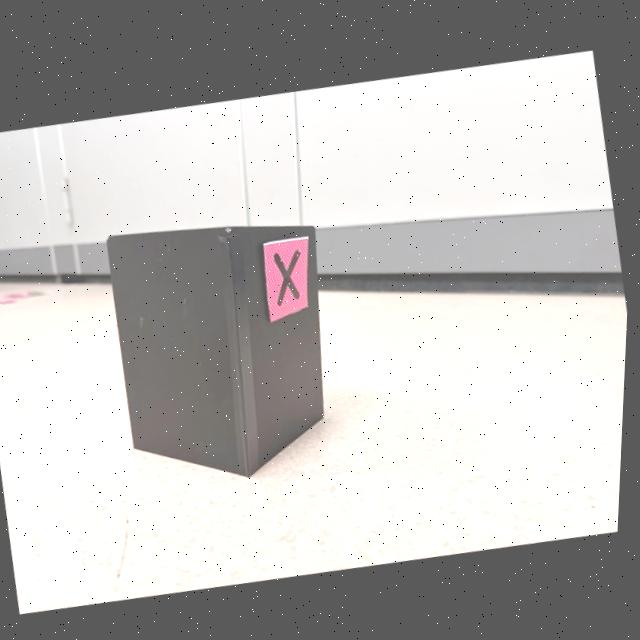X: (275, 247, 302, 301)
